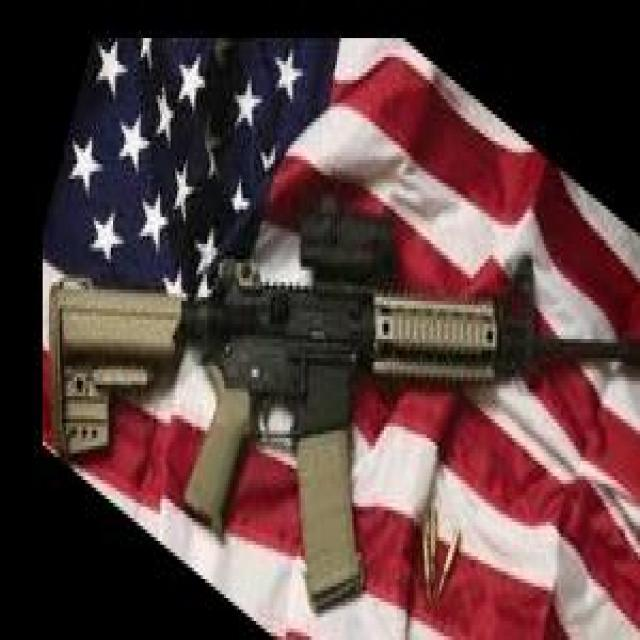weapon: (49, 192, 640, 618)
